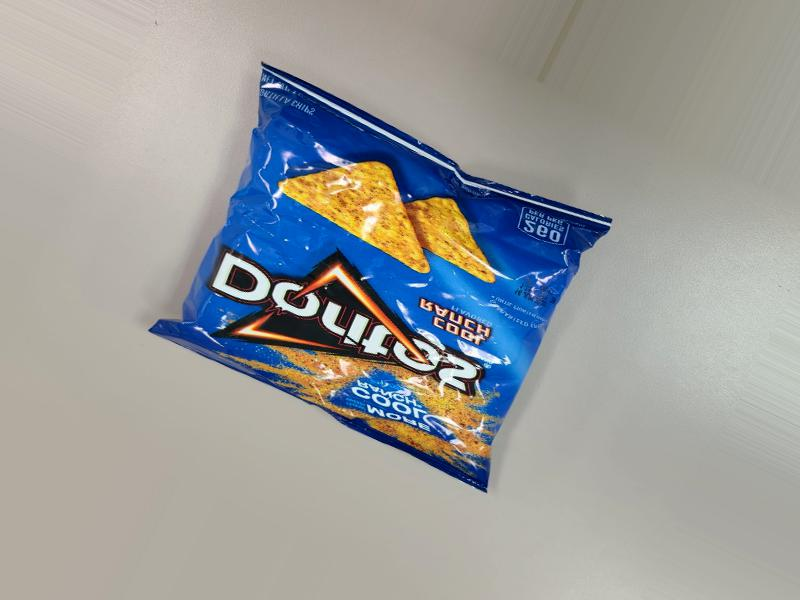doritos: (192, 90, 616, 461)
